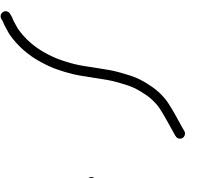b: (125, 66, 194, 154), (1, 9, 59, 86)
r: (62, 49, 129, 95)
